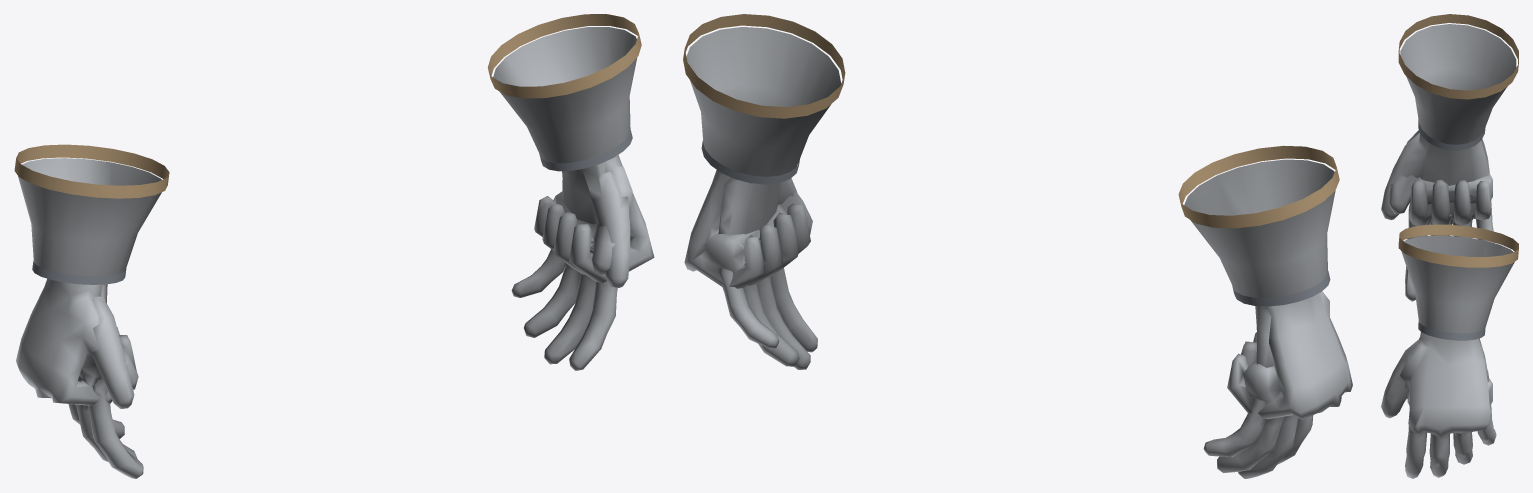
Rendered from g_ironplate_f.glb.
The picture shows the model from 3 angles, left to right: view 1: azimuth 30°, elevation 25°; view 2: azimuth 150°, elevation 25°; view 3: azimuth 270°, elevation 25°; orthographic projection. The views are drawn at different scales.
Parts seen in each view (by area): view 1: ArmL_Gauntlet, ArmR_Gauntlet, ArmL_HandOpen, ArmR_Hand, ArmL_Hand, ArmR_HandOpen; view 2: ArmL_Gauntlet, ArmR_Gauntlet, ArmR_Hand, ArmL_HandOpen, ArmL_Hand, ArmR_HandOpen; view 3: ArmR_Gauntlet, ArmL_Gauntlet, ArmL_Hand, ArmR_HandOpen, ArmR_Hand, ArmL_HandOpen.
Part boxes in pixels (x1=…): ArmL_Gauntlet: x1=487, y1=14, x2=641, y2=171; ArmR_Gauntlet: x1=14, y1=144, x2=169, y2=284; ArmL_HandOpen: x1=511, y1=161, x2=630, y2=370; ArmR_Hand: x1=16, y1=279, x2=138, y2=405; ArmL_Hand: x1=534, y1=155, x2=654, y2=283; ArmR_HandOpen: x1=68, y1=284, x2=143, y2=478; ArmL_Gauntlet: x1=683, y1=14, x2=845, y2=184; ArmR_Gauntlet: x1=1178, y1=145, x2=1339, y2=306; ArmR_Hand: x1=1227, y1=291, x2=1352, y2=419; ArmL_HandOpen: x1=718, y1=177, x2=817, y2=369; ArmL_Hand: x1=684, y1=170, x2=812, y2=288; ArmR_HandOpen: x1=1203, y1=306, x2=1313, y2=478; ArmR_Gauntlet: x1=1398, y1=14, x2=1518, y2=150; ArmL_Gauntlet: x1=1398, y1=224, x2=1518, y2=340; ArmL_Hand: x1=1400, y1=332, x2=1492, y2=437; ArmR_HandOpen: x1=1381, y1=132, x2=1494, y2=301; ArmR_Hand: x1=1388, y1=130, x2=1492, y2=225; ArmL_HandOpen: x1=1381, y1=332, x2=1496, y2=478.
Size of the model in its own units: 0.5902 by 0.2919 by 0.1415.
